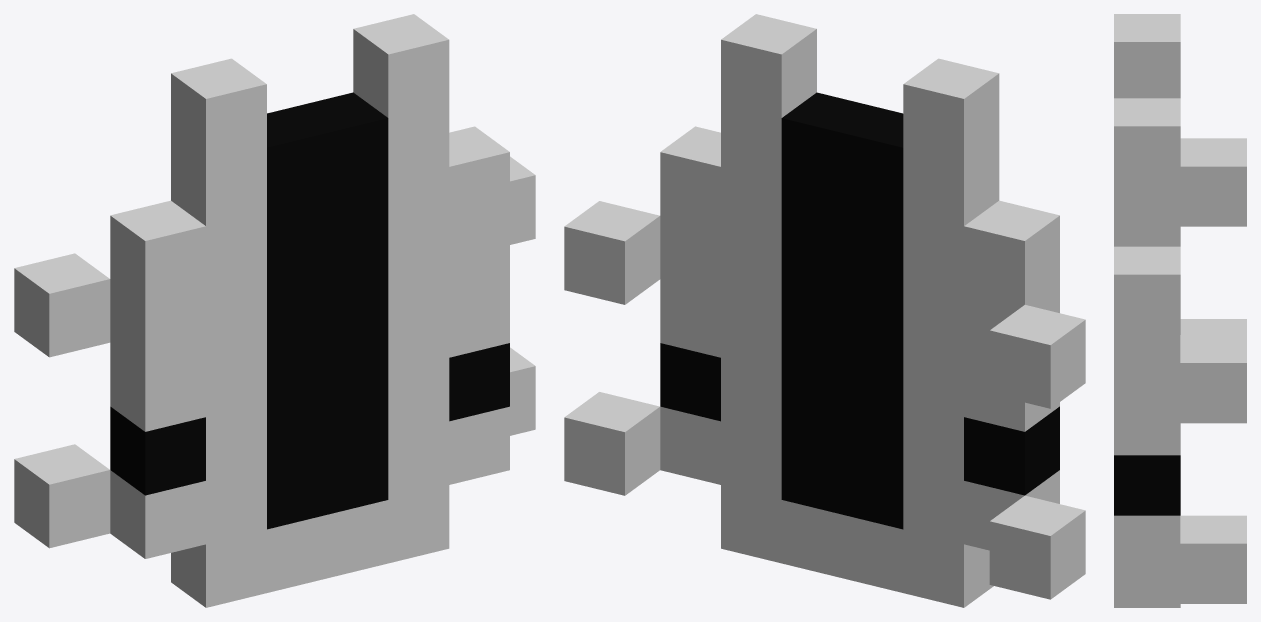
The model's file is turtle_mask.glb.
3 renders of one model, left to right at view 1: azimuth 30°, elevation 25°; view 2: azimuth 150°, elevation 25°; view 3: azimuth 270°, elevation 25°, orthographic. The views are drawn at different scales.
Parts seen in each view (by area): view 1: turtle_mask; view 2: turtle_mask; view 3: turtle_mask.
Boxes of the visible parts, x1,y1,x2,y2 form: turtle_mask: [14, 14, 535, 607]; turtle_mask: [564, 14, 1085, 607]; turtle_mask: [1114, 14, 1246, 607].
Bounding box in the file's own units: 0.8 × 0.8 × 0.2.
1 material, 1 textured.
